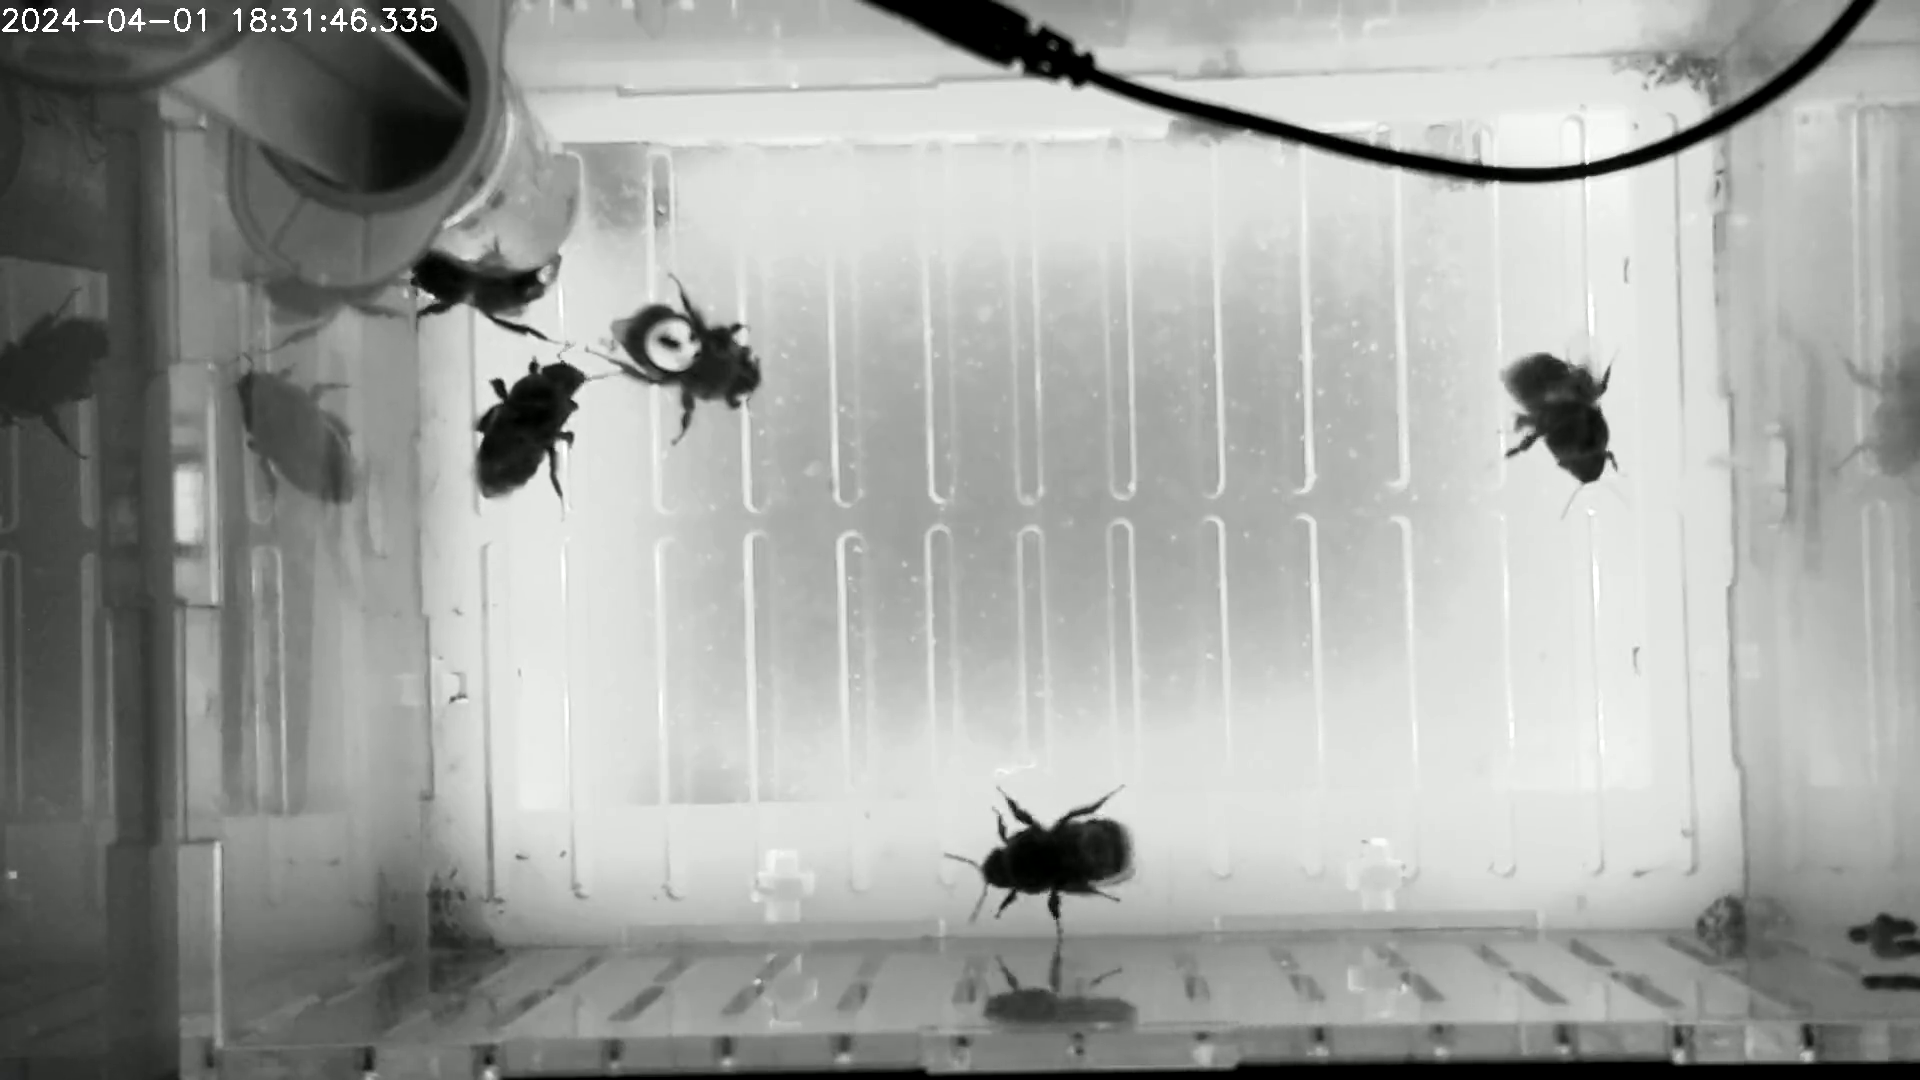bee: (935, 778, 1149, 938), (580, 264, 764, 450), (1485, 331, 1627, 526), (464, 338, 616, 502), (393, 240, 566, 355)
feeder: (409, 62, 583, 287)
